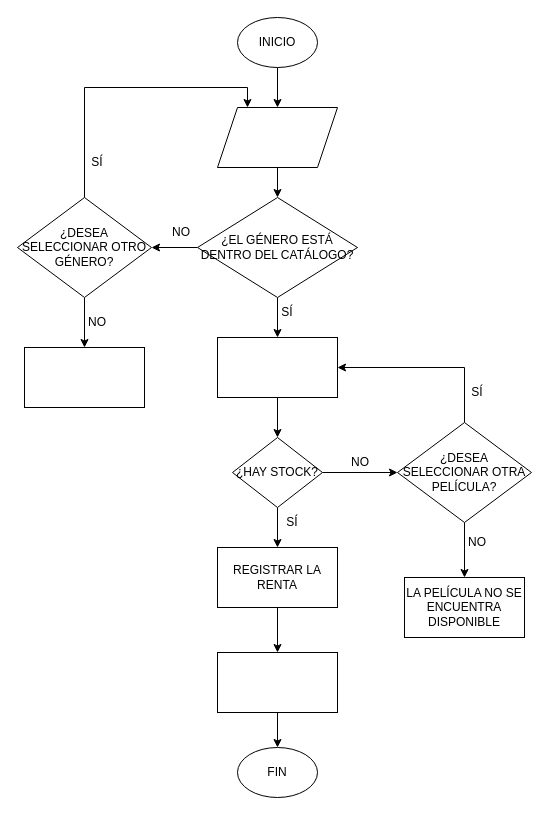
This 549x815 diagram has some shape labels left out. Each missing label, with the box of its shape:
ACTUALIZAR EL STOCK: (216, 652, 338, 712)
EL GÉNERO NO SE ENCUENTRA DISPONIBLE: (24, 346, 144, 408)
ELEGIR LA PELÍCULA DESEADA: (216, 336, 338, 398)
SELECCIONAR GÉNERO DE LA PELÍCULA: (216, 106, 338, 168)
